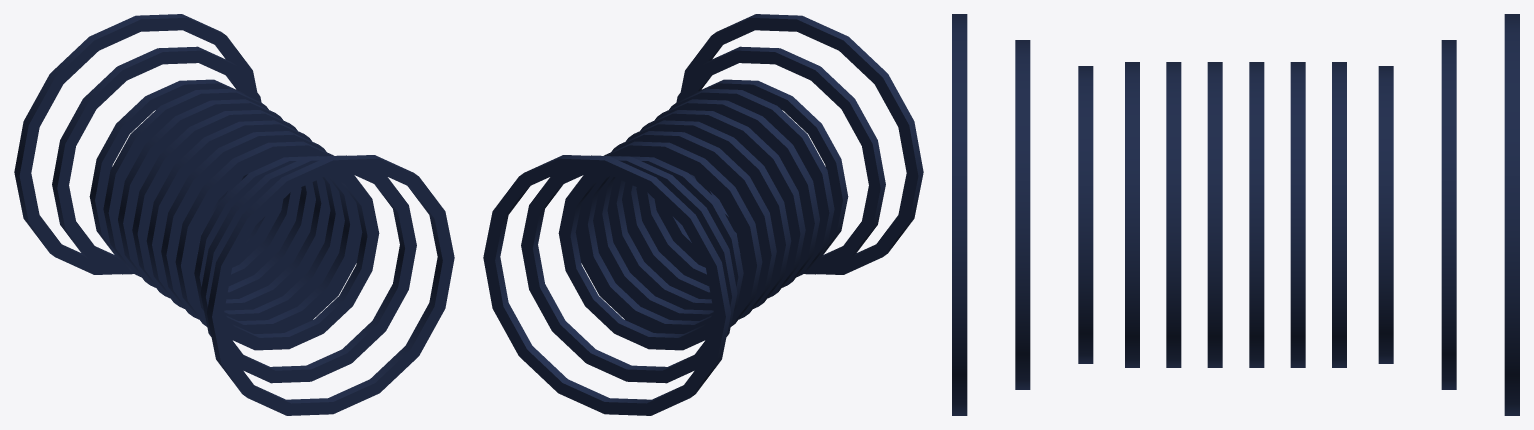
The model's file is srw_coils.obj.
The picture shows the model from 3 angles, left to right: view 1: azimuth 30°, elevation 25°; view 2: azimuth 150°, elevation 25°; view 3: azimuth 270°, elevation 25°; orthographic projection. The views are drawn at different scales.
Visible parts, largest first — view 1: srw_coils; view 2: srw_coils; view 3: srw_coils.
Boxes of the visible parts, x1,y1,x2,y2 form: srw_coils: (14,14,454,415); srw_coils: (483,14,923,415); srw_coils: (952,14,1519,415).
Bounding box in the file's own units: 2.25 × 2.25 × 3.17.
